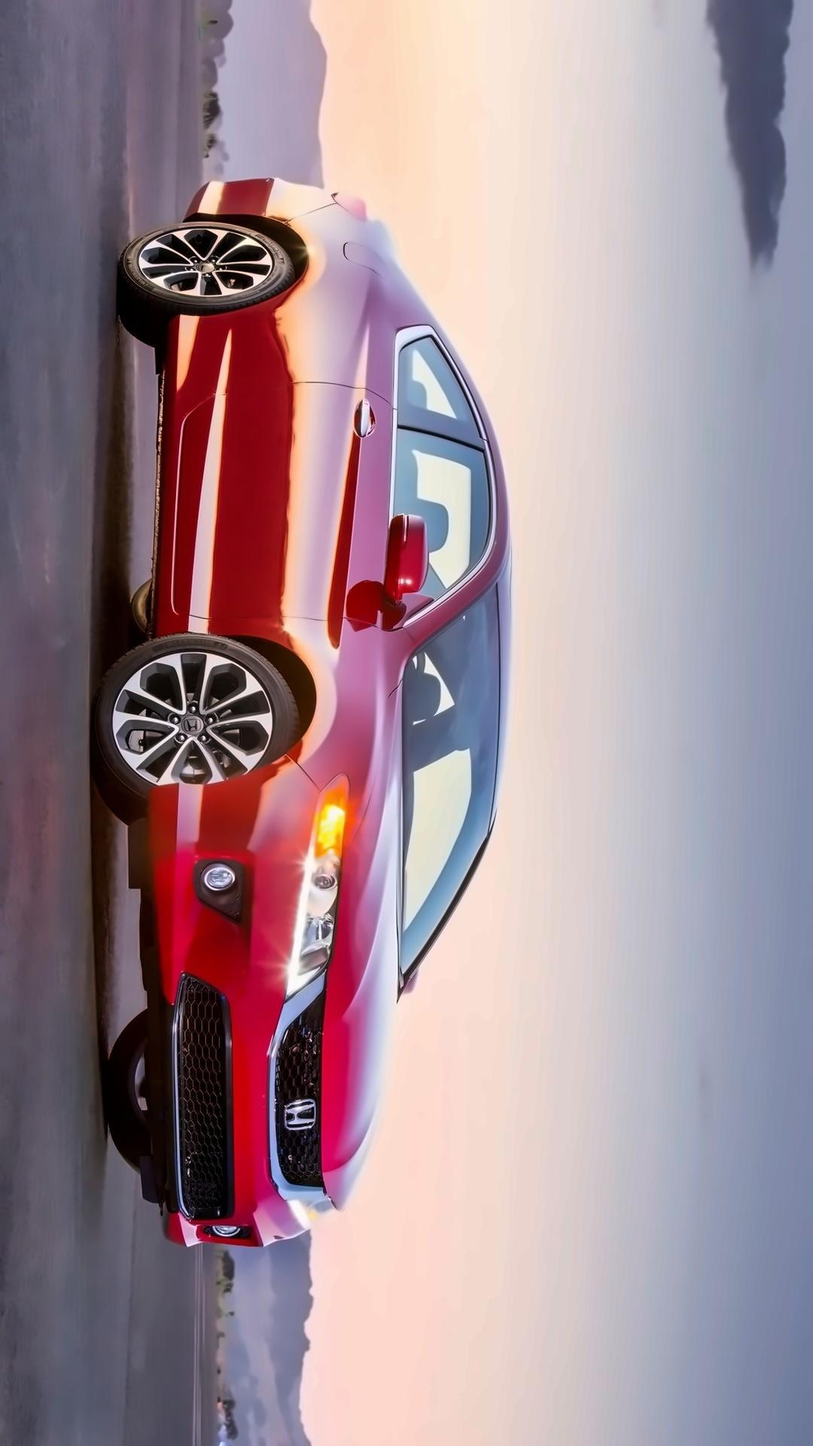Car hood: (300, 667, 421, 1220)
Driver-s door - -F-R-: (149, 339, 516, 648)
Front bumper: (137, 748, 330, 1259)
Headlight - -R-: (280, 767, 353, 1007)
Rear bumper: (183, 163, 339, 237)
Rear light - -R-: (310, 177, 387, 232)
Side bumper - -R-: (134, 302, 208, 642)
Side mirror - -R-: (380, 511, 431, 608)
